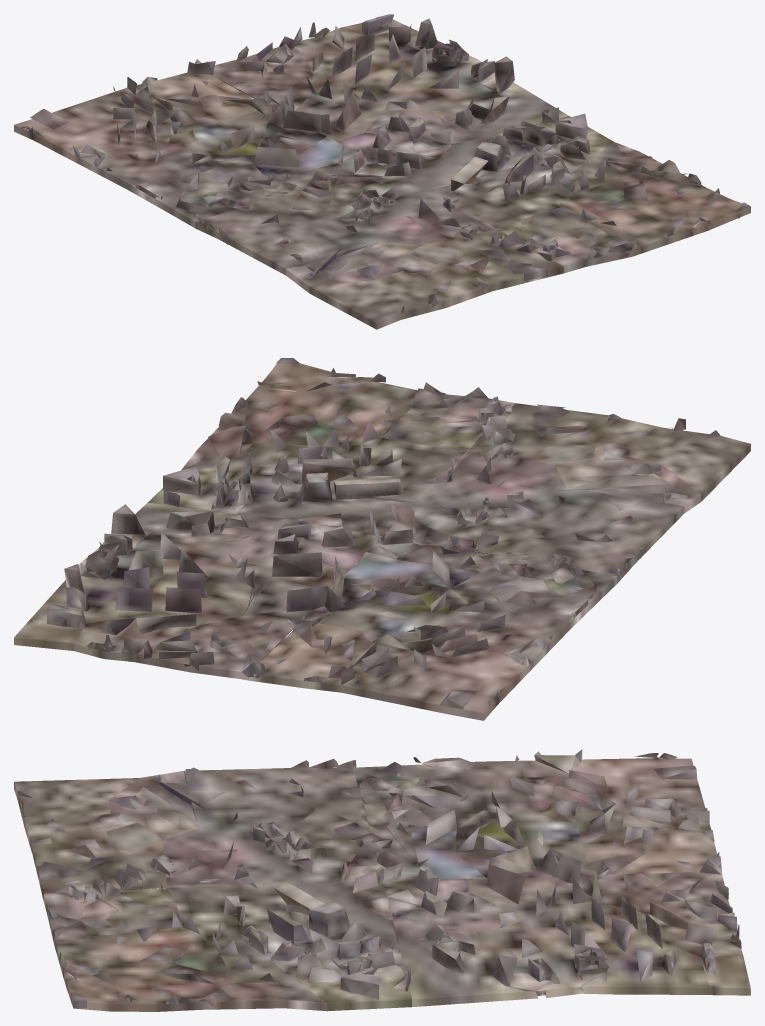
The picture shows the model from 3 angles, top to bottom: view 1: azimuth 30°, elevation 25°; view 2: azimuth 150°, elevation 25°; view 3: azimuth 270°, elevation 25°; orthographic projection. The views are drawn at different scales.
Visible parts, largest first — view 1: Mesh_0; view 2: Mesh_0; view 3: Mesh_0.
Boxes of the visible parts, left/top/right/bottom form: Mesh_0: left=14, top=14, right=750, bottom=329; Mesh_0: left=14, top=358, right=750, bottom=720; Mesh_0: left=14, top=749, right=750, bottom=1011.
Bounding box in the file's own units: 1065 × 94.81 × 1318.
Materials: 1 (1 with a texture image).
